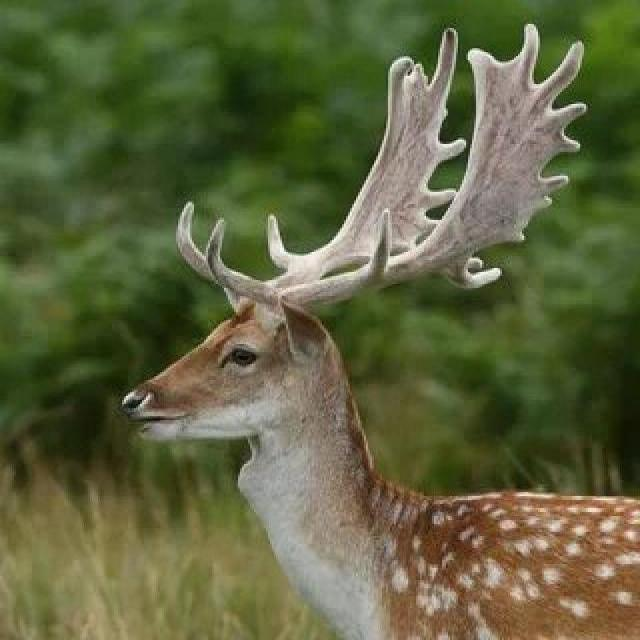deer: (113, 143, 575, 561)
